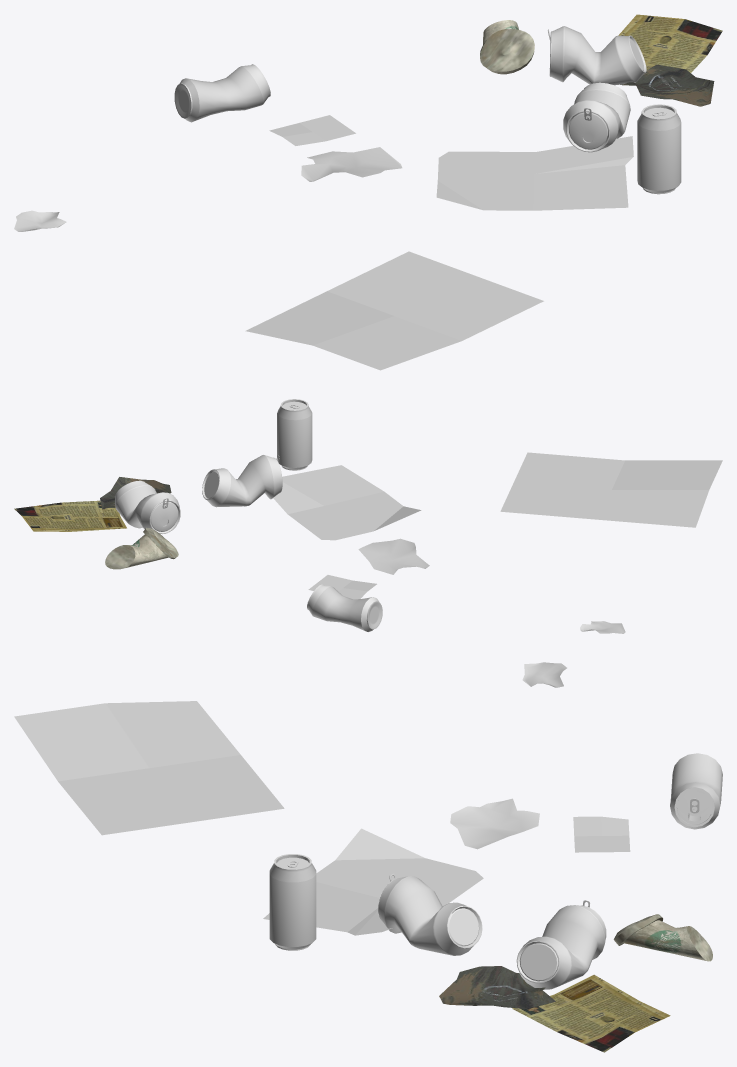
Rendered from TrashB.fbx.
3 views of the same model, one above another, from view 1: azimuth 30°, elevation 25°; view 2: azimuth 150°, elevation 25°; view 3: azimuth 270°, elevation 25° (orthographic). The views are drawn at different scales.
Visible parts, largest first — view 1: TrashB; view 2: TrashB; view 3: TrashB.
Part boxes in pixels (x1,y1,x2,y2): TrashB: [14, 14, 722, 370]; TrashB: [14, 399, 722, 633]; TrashB: [14, 662, 722, 1052].
Bounding box in the file's own units: 1.8 × 0.1795 × 1.39.
